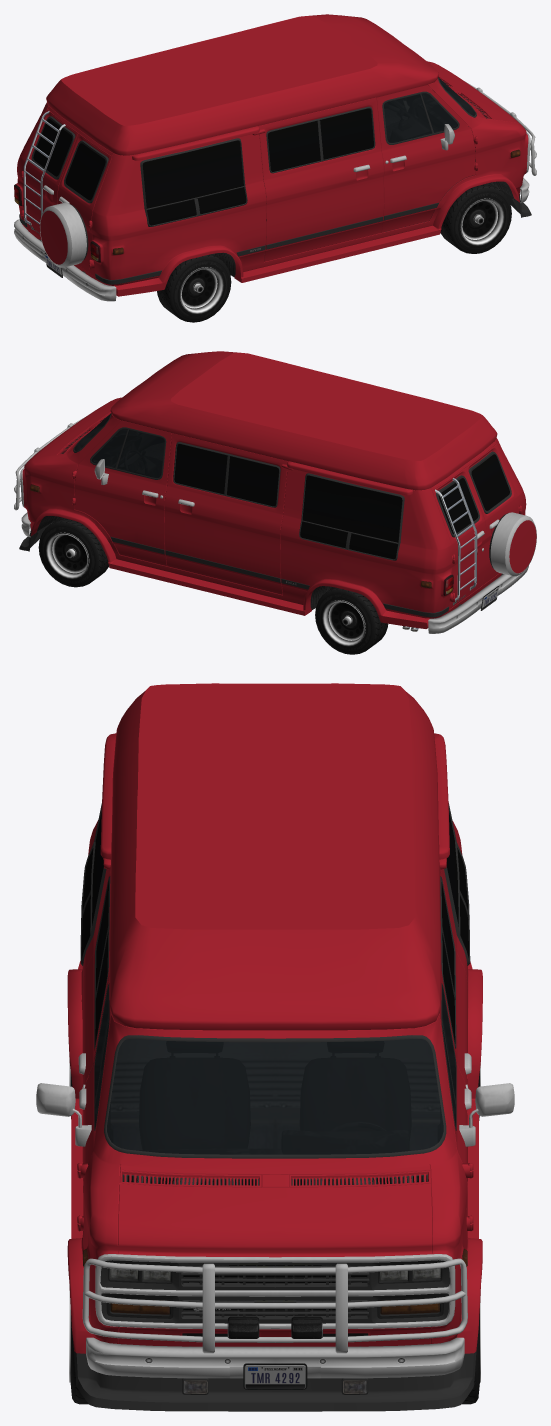
Rendered from shvan92trv.glb.
3 renders of one model, top to bottom at view 1: azimuth 30°, elevation 25°; view 2: azimuth 150°, elevation 25°; view 3: azimuth 270°, elevation 25°, orthographic. The views are drawn at different scales.
Parts seen in each view (by area): view 1: Shvan92_Body_Shvan92_bodymat_0, Shvan92_Traveler_Stuff_Shvan92_bodymat_0, Shvan92_Traveler_Stuff_Inner_UCB_BOTTOM_0, Shvan92_WheelCustom_FR_RB1c_Tire_1k_0, Shvan92_WheelCustom_RR_RB1c_Tire_1k_0, Shvan92_Bottom_UCB_BOTTOM_0, Shvan92_Interior_UCB_Interiors_1_0, Shvan92_Glass_Passanger_UCB_Lights_and_Glass_Transperent_0, Shvan92_Bumper_rear_UCB_BOTTOM_0, Shvan92_Hood_Shvan92_bodymat_0, Shvan92_Body_glass_UCB_Lights_and_Glass_Transperent_0, Shvan92_Bullbar_C_UCB_BOTTOM_0; view 2: Shvan92_Body_Shvan92_bodymat_0, Shvan92_Traveler_Stuff_Shvan92_bodymat_0, Shvan92_Traveler_Stuff_Inner_UCB_BOTTOM_0, Shvan92_WheelCustom_FL_RB1c_Tire_1k_0, Shvan92_WheelCustom_RL_RB1c_Tire_1k_0, Shvan92_Bottom_UCB_BOTTOM_0, Shvan92_Interior_UCB_Interiors_1_0, Shvan92_Glass_Driver_UCB_Lights_and_Glass_Transperent_0, Shvan92_Bumper_rear_UCB_BOTTOM_0, Shvan92_Hood_Shvan92_bodymat_0, Shvan92_Body_glass_UCB_Lights_and_Glass_Transperent_0, Shvan92_Bullbar_C_UCB_BOTTOM_0; view 3: Shvan92_Traveler_Stuff_Shvan92_bodymat_0, Shvan92_Windshield_UCB_Lights_and_Glass_Transperent_0, Shvan92_Body_Shvan92_bodymat_0, Shvan92_Traveler_Stuff_Inner_UCB_BOTTOM_0, Shvan92_Bottom_UCB_BOTTOM_0, Shvan92_Interior_UCB_Interiors_1_0, Shvan92_Hood_Shvan92_bodymat_0, Shvan92_Bumper_front_UCB_BOTTOM_0, Shvan92_Bullbar_C_UCB_BOTTOM_0, Shvan92_Headlights_Glass_UCB_Lights_and_Glass_Transperent_0, Shvan92TRVL_Numberplate_front_Numberplates_Misk_U_0, Shvan92_Headlights_UCB_Lights_and_Glass_0 (+1 smaller).
Boxes of the visible parts, x1,y1,x2,y2 form: Shvan92_Body_Shvan92_bodymat_0: (16, 61, 528, 285); Shvan92_Traveler_Stuff_Shvan92_bodymat_0: (22, 14, 519, 296); Shvan92_Traveler_Stuff_Inner_UCB_BOTTOM_0: (23, 106, 531, 267); Shvan92_WheelCustom_FR_RB1c_Tire_1k_0: (440, 183, 511, 253); Shvan92_WheelCustom_RR_RB1c_Tire_1k_0: (157, 254, 231, 322); Shvan92_Bottom_UCB_BOTTOM_0: (19, 78, 530, 284); Shvan92_Interior_UCB_Interiors_1_0: (265, 85, 475, 244); Shvan92_Glass_Passanger_UCB_Lights_and_Glass_Transperent_0: (384, 94, 432, 142); Shvan92_Bumper_rear_UCB_BOTTOM_0: (14, 219, 116, 301); Shvan92_Hood_Shvan92_bodymat_0: (430, 63, 521, 125); Shvan92_Body_glass_UCB_Lights_and_Glass_Transperent_0: (421, 93, 457, 132); Shvan92_Bullbar_C_UCB_BOTTOM_0: (464, 81, 536, 175); Shvan92_Body_Shvan92_bodymat_0: (22, 397, 526, 618); Shvan92_Traveler_Stuff_Shvan92_bodymat_0: (31, 351, 536, 628); Shvan92_Traveler_Stuff_Inner_UCB_BOTTOM_0: (19, 442, 536, 602); Shvan92_WheelCustom_FL_RB1c_Tire_1k_0: (38, 517, 108, 587); Shvan92_WheelCustom_RL_RB1c_Tire_1k_0: (315, 587, 388, 654); Shvan92_Bottom_UCB_BOTTOM_0: (20, 413, 502, 631); Shvan92_Interior_UCB_Interiors_1_0: (75, 420, 163, 477); Shvan92_Glass_Driver_UCB_Lights_and_Glass_Transperent_0: (117, 430, 164, 477); Shvan92_Bumper_rear_UCB_BOTTOM_0: (428, 566, 528, 633); Shvan92_Hood_Shvan92_bodymat_0: (29, 399, 119, 460); Shvan92_Body_glass_UCB_Lights_and_Glass_Transperent_0: (91, 429, 127, 467); Shvan92_Bullbar_C_UCB_BOTTOM_0: (14, 417, 84, 510); Shvan92_Traveler_Stuff_Shvan92_bodymat_0: (67, 683, 482, 1353); Shvan92_Windshield_UCB_Lights_and_Glass_Transperent_0: (107, 1039, 443, 1154); Shvan92_Body_Shvan92_bodymat_0: (77, 733, 473, 1346); Shvan92_Traveler_Stuff_Inner_UCB_BOTTOM_0: (74, 803, 476, 1411); Shvan92_Bottom_UCB_BOTTOM_0: (36, 983, 514, 1394); Shvan92_Interior_UCB_Interiors_1_0: (89, 987, 455, 1153); Shvan92_Hood_Shvan92_bodymat_0: (118, 1183, 432, 1257); Shvan92_Bumper_front_UCB_BOTTOM_0: (86, 1337, 464, 1389); Shvan92_Bullbar_C_UCB_BOTTOM_0: (82, 1258, 467, 1353); Shvan92_Headlights_Glass_UCB_Lights_and_Glass_Transperent_0: (109, 1265, 440, 1314); Shvan92TRVL_Numberplate_front_Numberplates_Misk_U_0: (244, 1365, 305, 1388); Shvan92_Headlights_UCB_Lights_and_Glass_0: (110, 1269, 440, 1280).
Size of the model in its own units: 5.18 by 2.11 by 2.35.
Materials: 8 (7 with a texture image).
